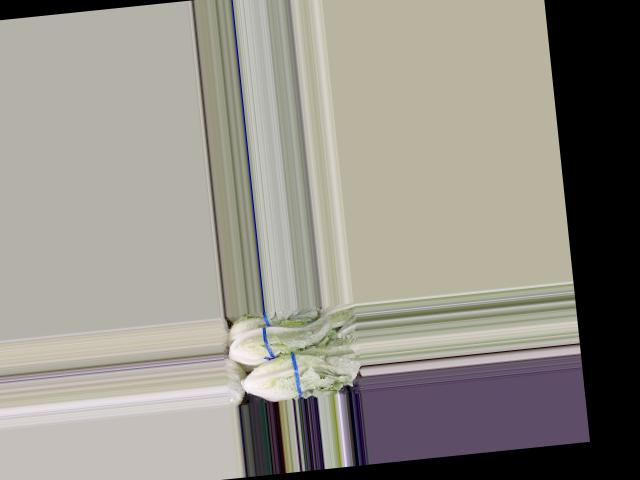lettuce: (224, 311, 336, 368)
